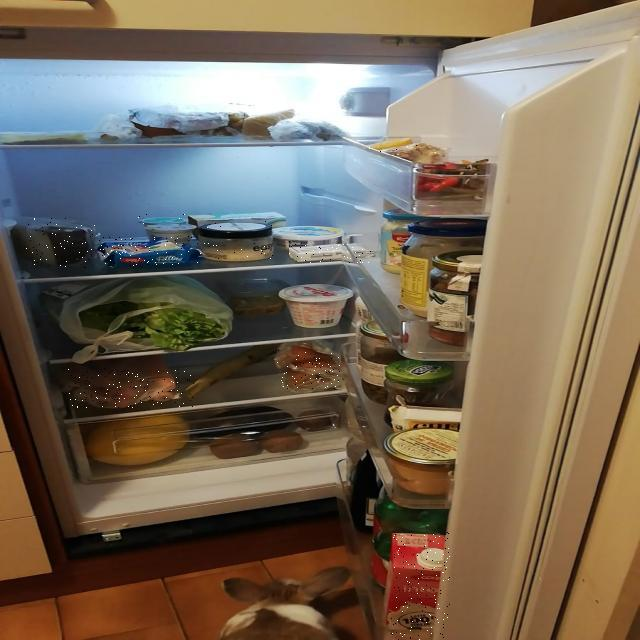apple: (280, 357, 340, 389), (275, 346, 332, 366)
butter: (289, 244, 372, 263)
carrots: (68, 368, 194, 408)
cheese: (26, 218, 95, 268), (97, 236, 189, 266), (196, 243, 274, 263)
lemon: (368, 140, 418, 155)
milk: (391, 532, 450, 640)
yoghurt: (194, 212, 289, 228), (138, 214, 188, 243), (145, 222, 198, 248)
